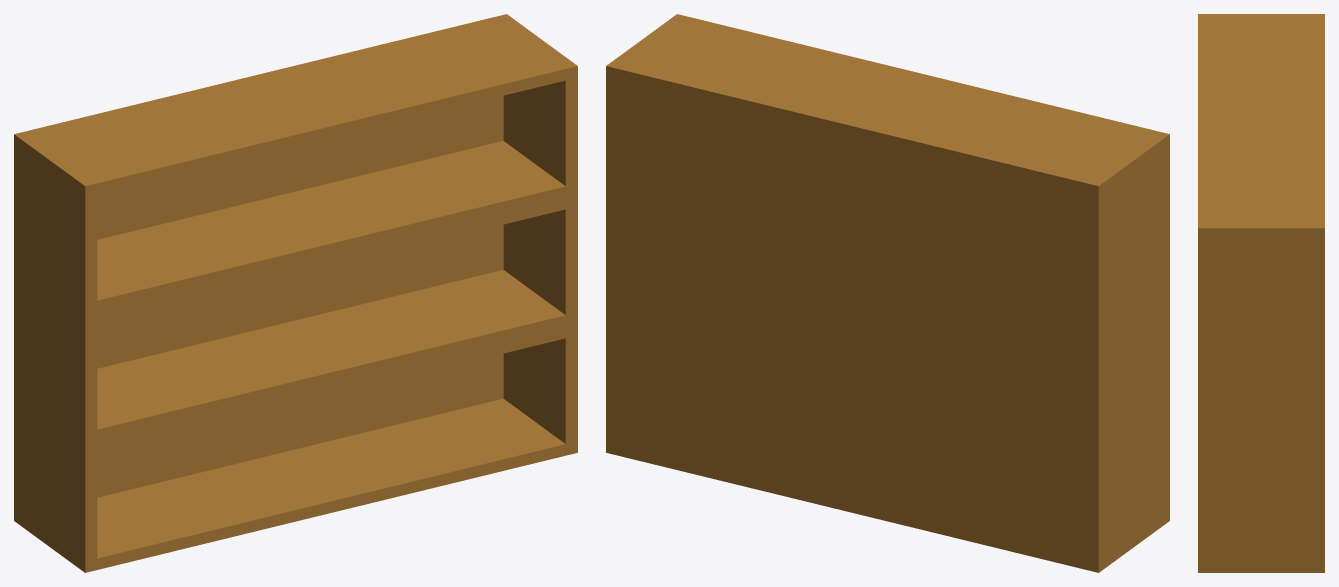
File: shelf.fbx
The picture shows the model from 3 angles, left to right: view 1: azimuth 30°, elevation 25°; view 2: azimuth 150°, elevation 25°; view 3: azimuth 270°, elevation 25°; orthographic projection. The views are drawn at different scales.
Parts seen in each view (by area): view 1: shelf; view 2: shelf; view 3: shelf.
Part boxes in pixels (<box>): shelf: <box>14,14,577,572</box>; shelf: <box>606,14,1169,572</box>; shelf: <box>1198,14,1324,572</box>.
Bounding box in the file's own units: 160 × 40 × 120.
